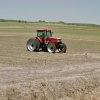Tractor: (18, 16, 76, 63)
